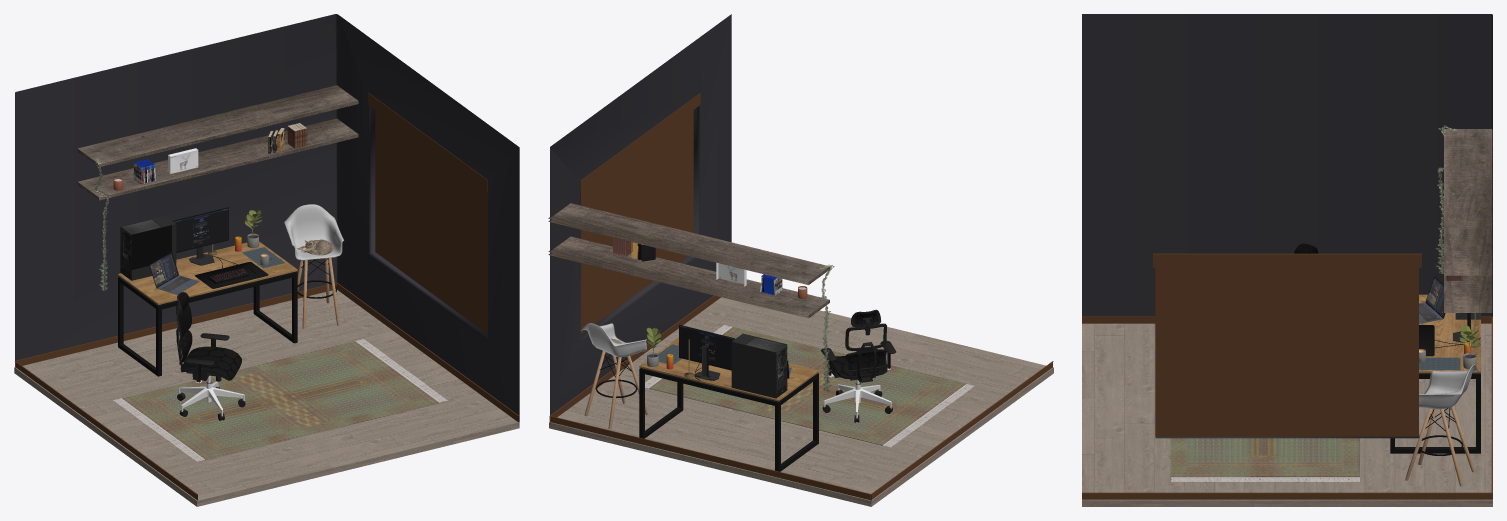
File: room.glb
3 renders of one model, left to right at view 1: azimuth 30°, elevation 25°; view 2: azimuth 150°, elevation 25°; view 3: azimuth 270°, elevation 25°, orthographic. The views are drawn at different scales.
Parts seen in each view (by area): view 1: Room, Desk, Chair, Alphas, Screen, Laptop, Books; view 2: Room, Desk, Chair, Alphas, Screen, Books; view 3: Room, Desk, Alphas, Laptop.
Part boxes in pixels (box(x1,y1,x2,y2)): Room: box(14, 14, 519, 506); Desk: box(118, 207, 297, 376); Chair: box(176, 292, 241, 382); Alphas: box(94, 158, 447, 461); Screen: box(174, 208, 228, 251); Laptop: box(149, 251, 199, 294); Books: box(268, 123, 307, 153); Room: box(548, 14, 1053, 506); Desk: box(639, 325, 818, 471); Chair: box(821, 309, 896, 382); Alphas: box(645, 264, 974, 447); Screen: box(680, 325, 734, 368); Books: box(613, 237, 655, 261); Room: box(1082, 14, 1492, 506); Desk: box(1390, 294, 1480, 453); Alphas: box(1171, 125, 1479, 481); Laptop: box(1419, 277, 1445, 323).
Size of the model in its own units: 3.55 by 2.89 by 3.4.
Materials: 39 (23 with a texture image).
